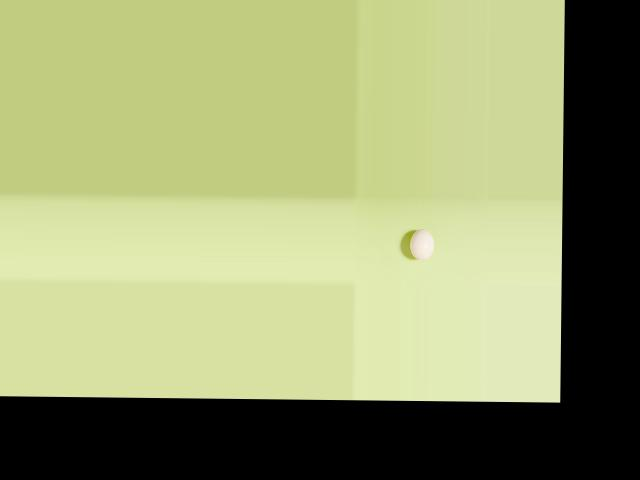egg: (409, 228, 433, 259)
